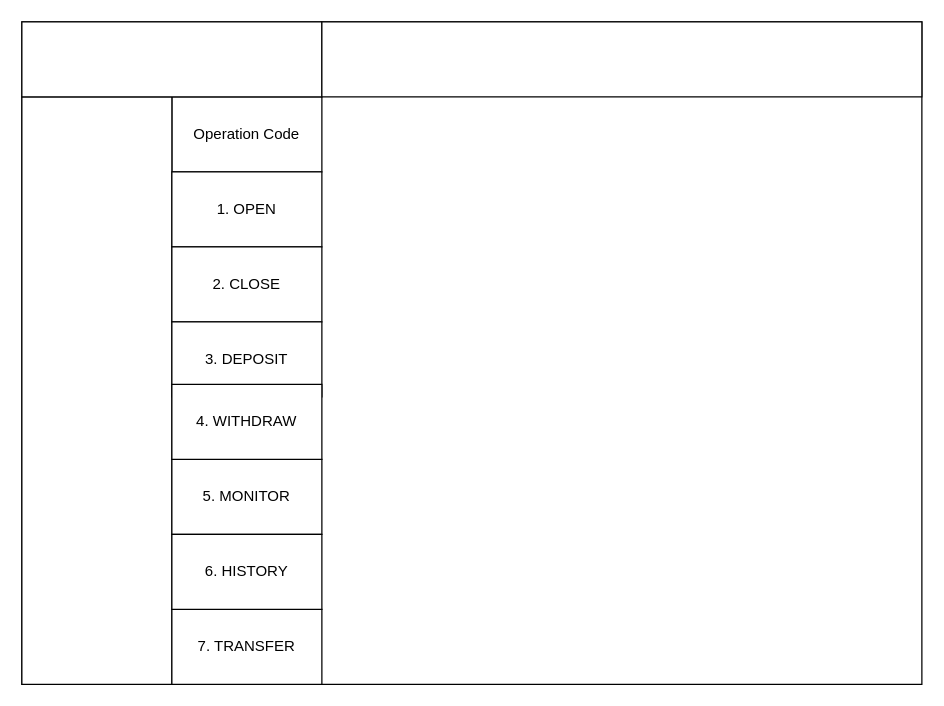
The diagram is 944 pixels wide and 706 high, and some of its shapes have lost their labels. The centre of each missing label's shape, as x and y in pixels:
"Header" goes at point (171, 59).
"Message" goes at point (621, 59).
"Request ID" goes at point (96, 390).
